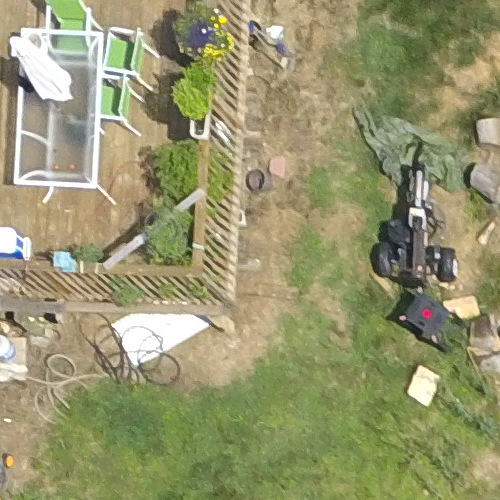container: (1, 225, 38, 264), (240, 163, 275, 201)
porch: (2, 1, 297, 374)
tarp: (347, 87, 468, 208)
